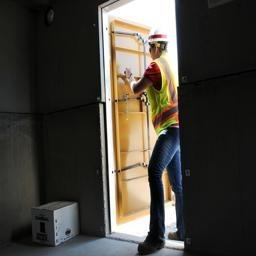hat: (142, 25, 174, 58)
vest: (137, 54, 188, 139)
